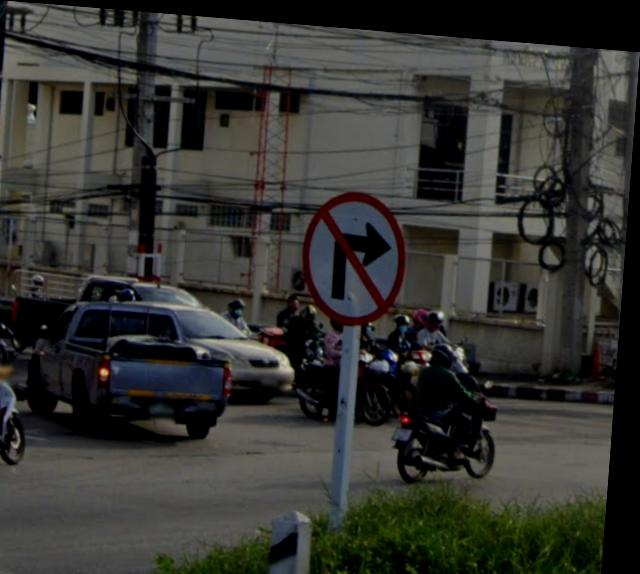not_turn_right: (297, 184, 416, 327)
